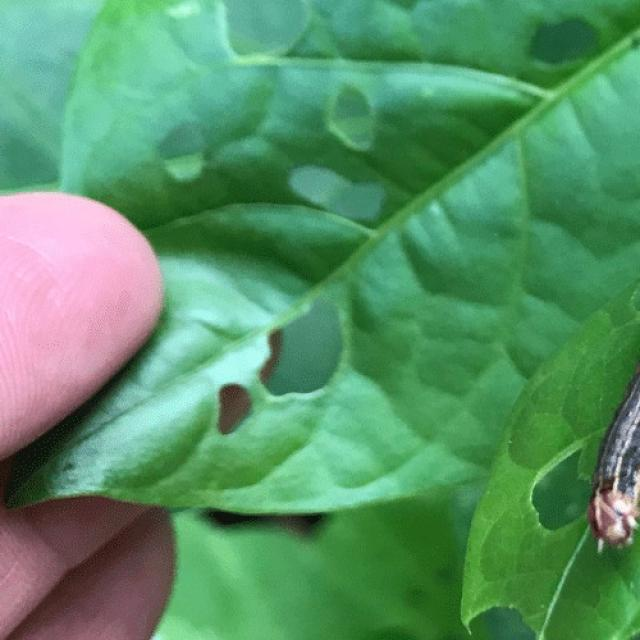armyworm: (584, 361, 638, 553)
